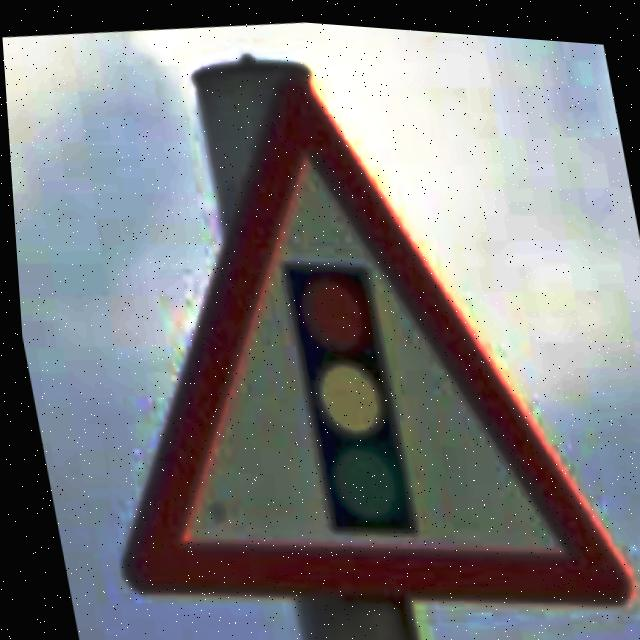signalahead: (117, 74, 623, 593)
